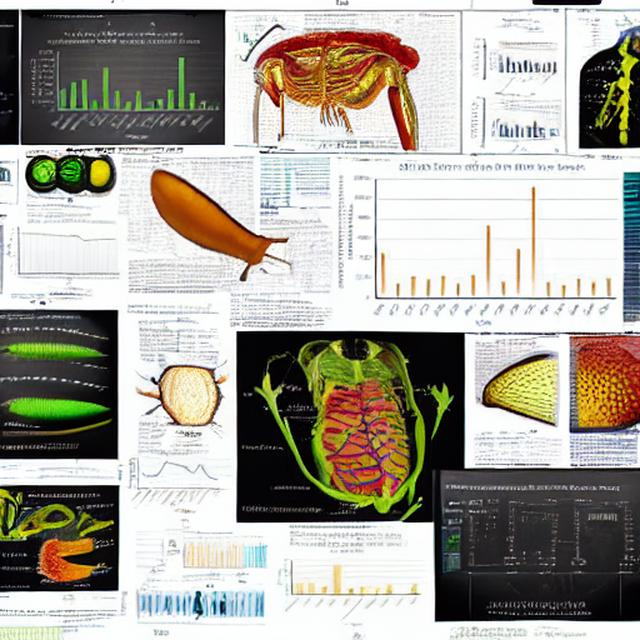Graph: (334, 161, 621, 329), (25, 29, 225, 145), (274, 541, 423, 628), (4, 217, 122, 287), (127, 448, 223, 508), (488, 45, 560, 86), (178, 535, 242, 573)
